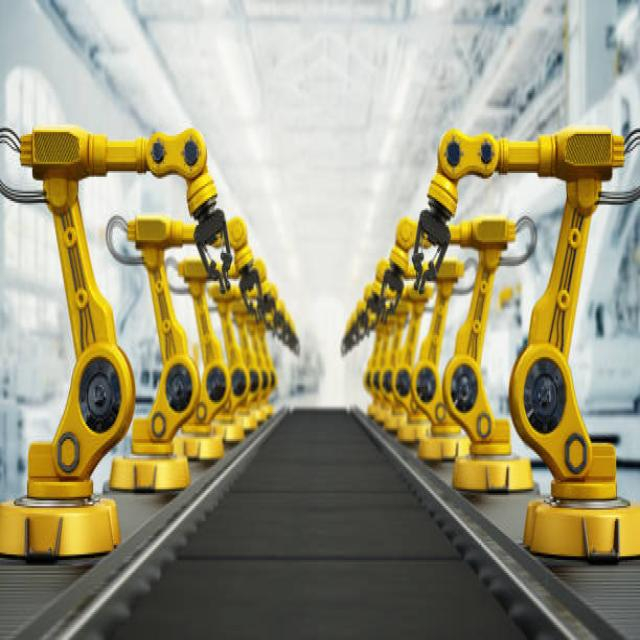Robotic-arm: (0, 89, 226, 584), (420, 121, 640, 558), (115, 210, 248, 498), (396, 214, 532, 494), (185, 255, 278, 439), (384, 245, 456, 462)
